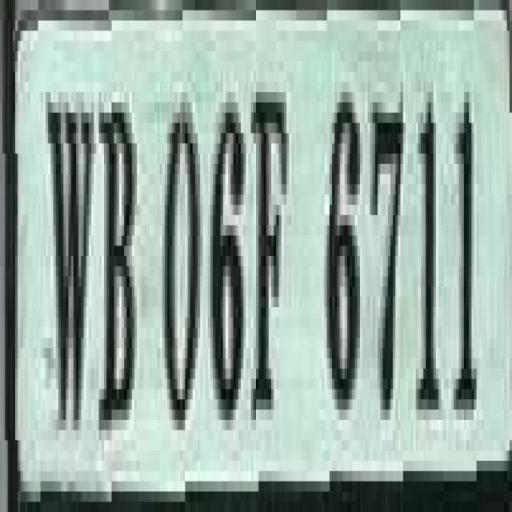number plate: (0, 20, 497, 502)
